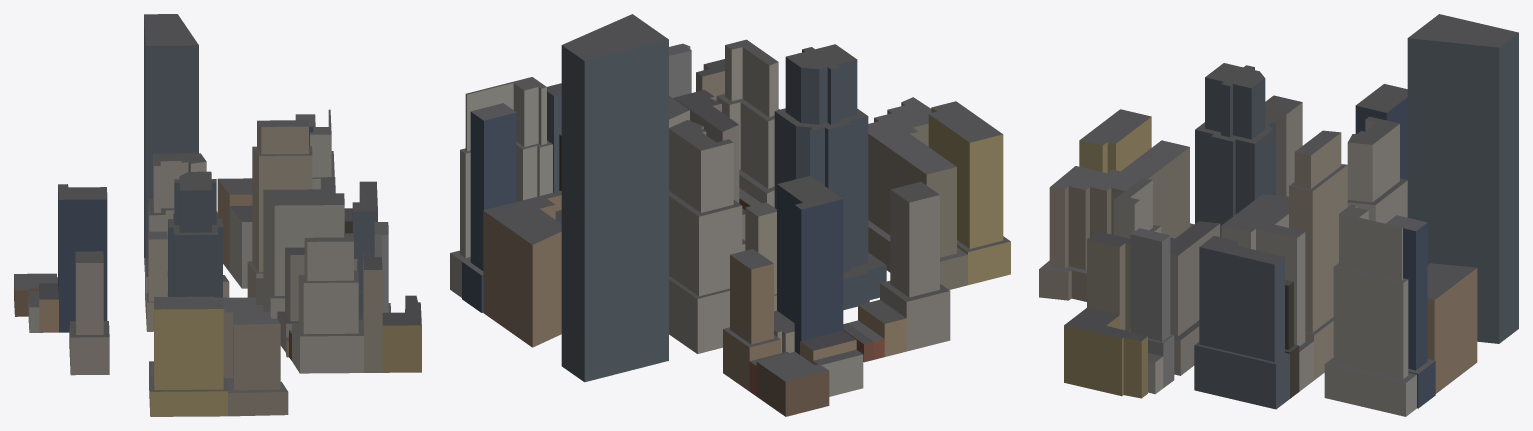
Rendered from -1_-2.far.glb.
The picture shows the model from 3 angles, left to right: view 1: azimuth 30°, elevation 25°; view 2: azimuth 150°, elevation 25°; view 3: azimuth 270°, elevation 25°; orthographic projection. The views are drawn at different scales.
Visible parts, largest first — view 1: -1_-2_far; view 2: -1_-2_far; view 3: -1_-2_far.
Boxes of the visible parts, bbox=[...] form: -1_-2_far: bbox=[14, 14, 421, 416]; -1_-2_far: bbox=[450, 14, 1010, 416]; -1_-2_far: bbox=[1039, 14, 1518, 416].
Bounding box in the file's own units: 292 × 210 × 308.
